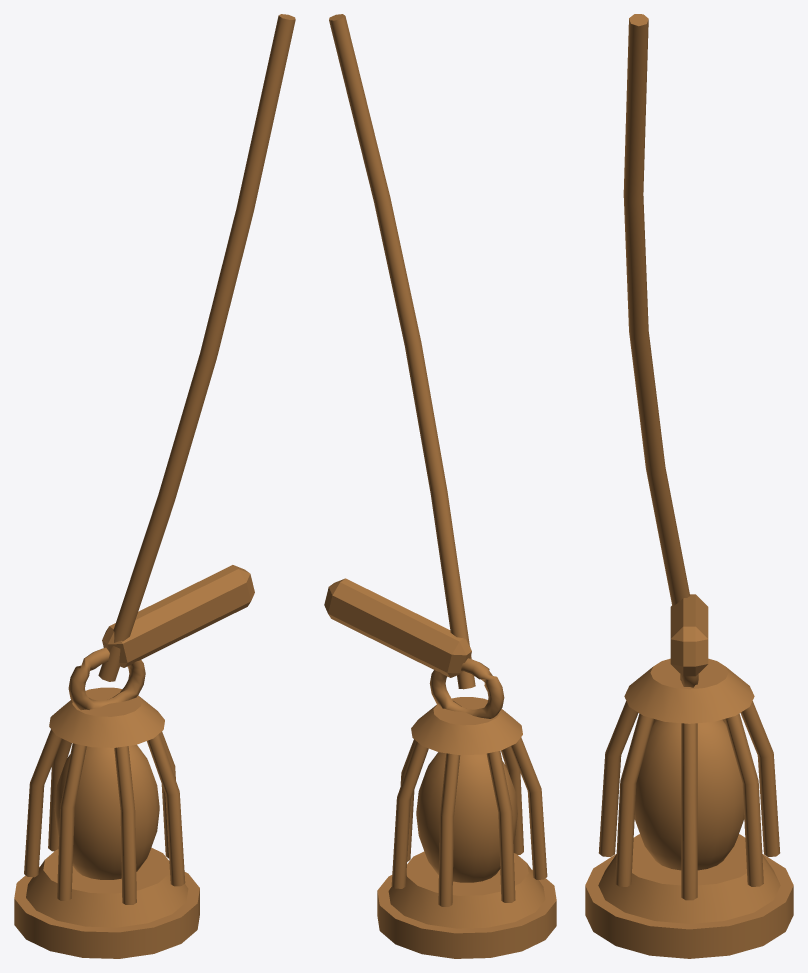
File: SM_Menu_BackstageLantern.fbx
The picture shows the model from 3 angles, left to right: view 1: azimuth 30°, elevation 25°; view 2: azimuth 150°, elevation 25°; view 3: azimuth 270°, elevation 25°; orthographic projection. The views are drawn at different scales.
Parts seen in each view (by area): view 1: SM_Menu_BackstageLantern; view 2: SM_Menu_BackstageLantern; view 3: SM_Menu_BackstageLantern.
Part boxes in pixels (x1,y1,x2,y2): SM_Menu_BackstageLantern: (14,14,295,958); SM_Menu_BackstageLantern: (324,14,556,958); SM_Menu_BackstageLantern: (585,14,793,958).
Bounding box in the file's own units: 50.03 × 32.96 × 171.
